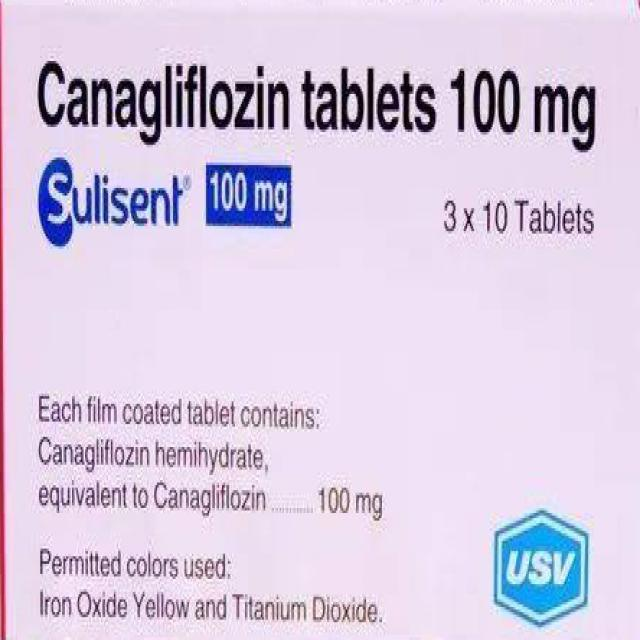drug-name: (36, 158, 186, 242)
